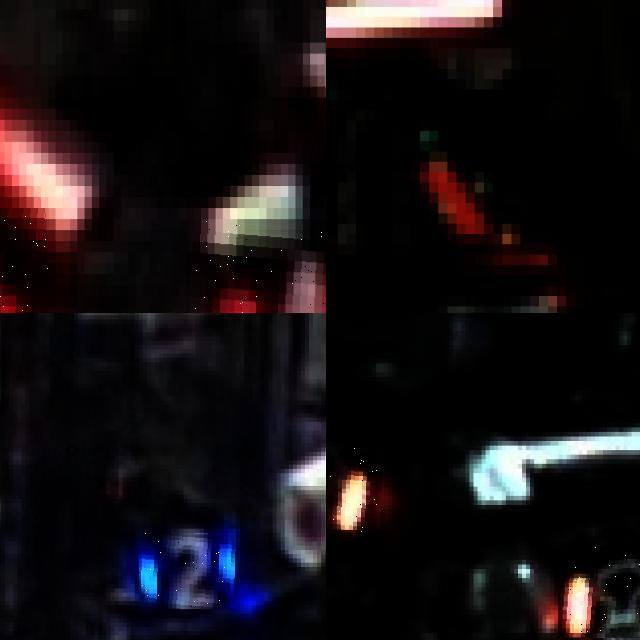B2: (139, 529, 240, 609)
R4: (190, 219, 326, 313)
Rs: (558, 546, 640, 637), (326, 436, 384, 532)
